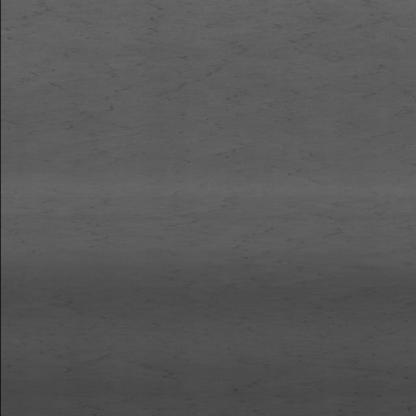silk_spot: (133, 14, 364, 148)
